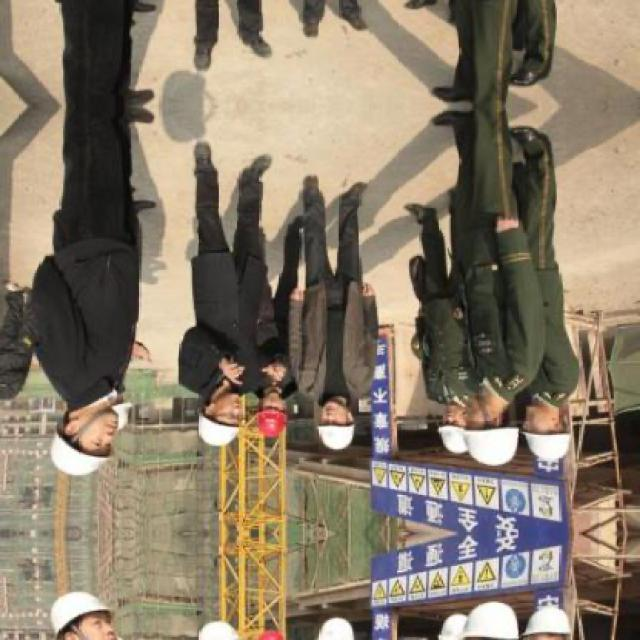con casco: (26, 389, 151, 483), (194, 380, 272, 451), (434, 394, 516, 458), (469, 392, 538, 466), (533, 397, 595, 470), (319, 397, 388, 454), (246, 396, 297, 446)
